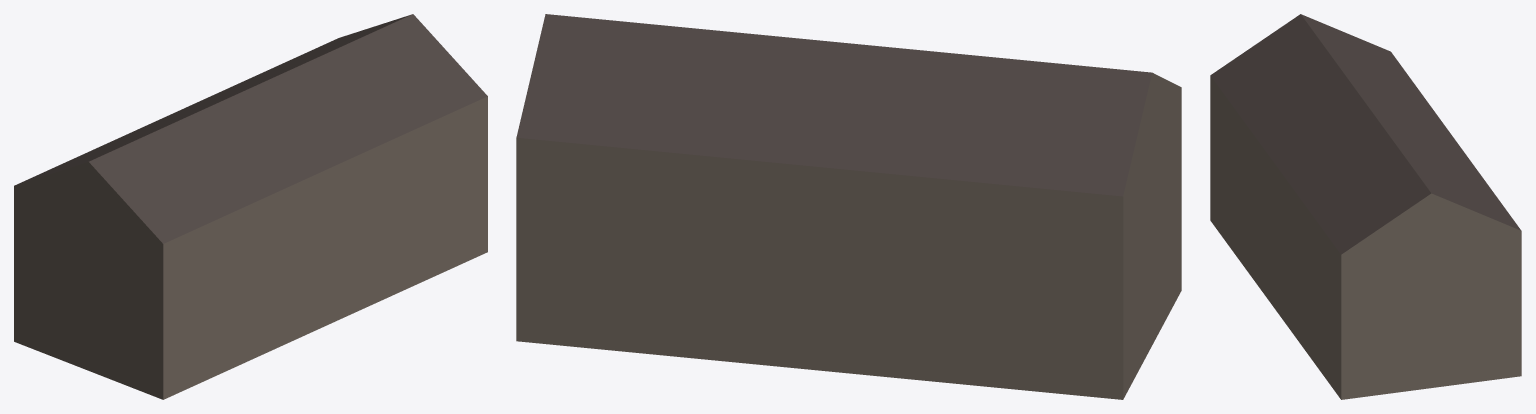
3 views of the same model, side by side, from view 1: azimuth 30°, elevation 25°; view 2: azimuth 150°, elevation 25°; view 3: azimuth 270°, elevation 25° (orthographic). The views are drawn at different scales.
Visible parts, largest first — view 1: HP-w1198645057; view 2: HP-w1198645057; view 3: HP-w1198645057.
Part boxes in pixels (x1=…): HP-w1198645057: x1=14, y1=14, x2=487, y2=399; HP-w1198645057: x1=516, y1=14, x2=1181, y2=399; HP-w1198645057: x1=1210, y1=14, x2=1521, y2=399.
Size of the model in its own units: 27 by 12.07 by 17.48.
